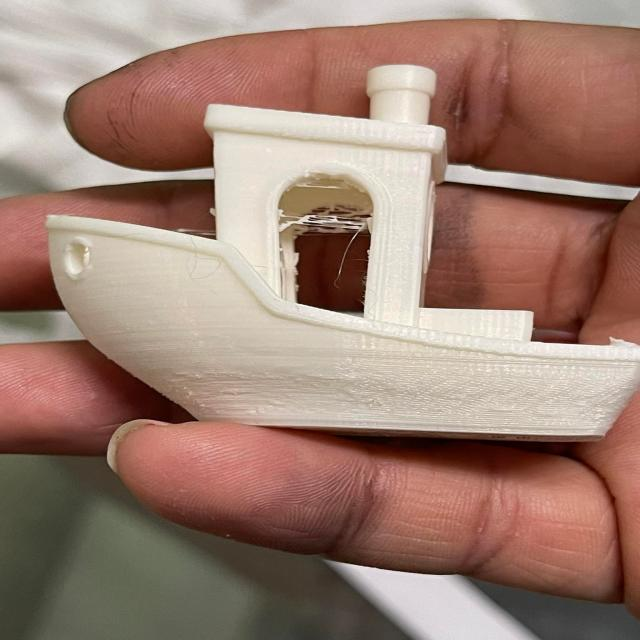stringing: (274, 208, 376, 237)
